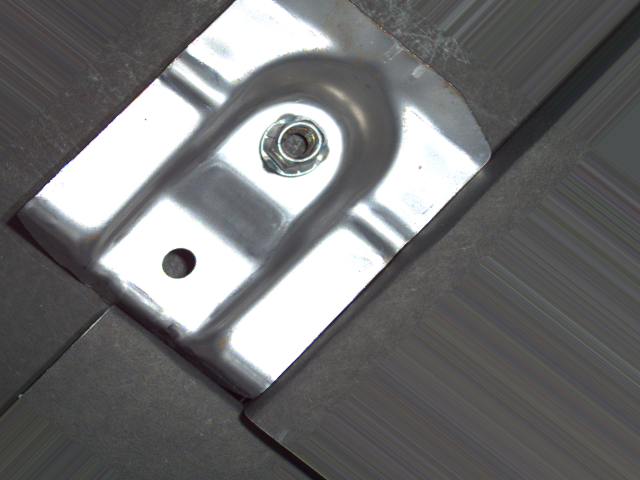good: (258, 108, 333, 180)
